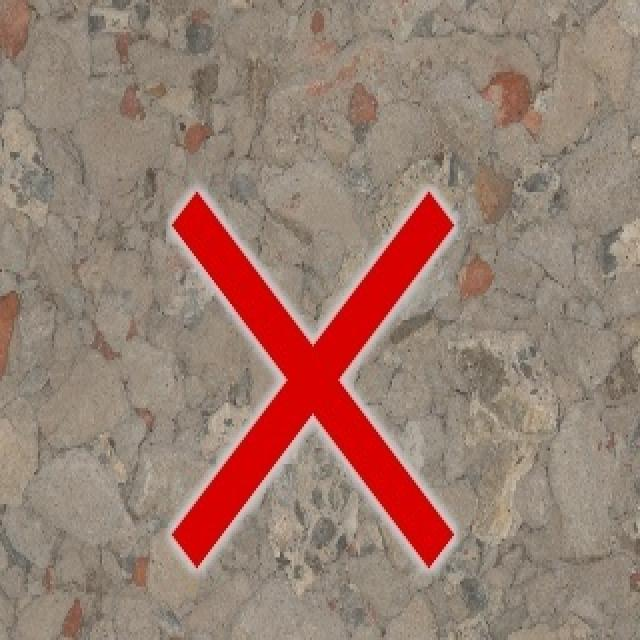x_marker: (171, 190, 453, 566)
